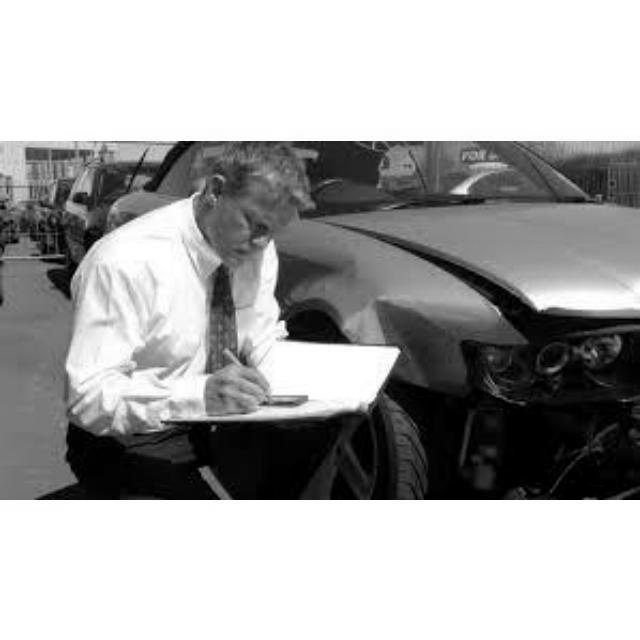bonnet-dent: (371, 185, 632, 313)
fender-dent: (290, 248, 439, 359)
